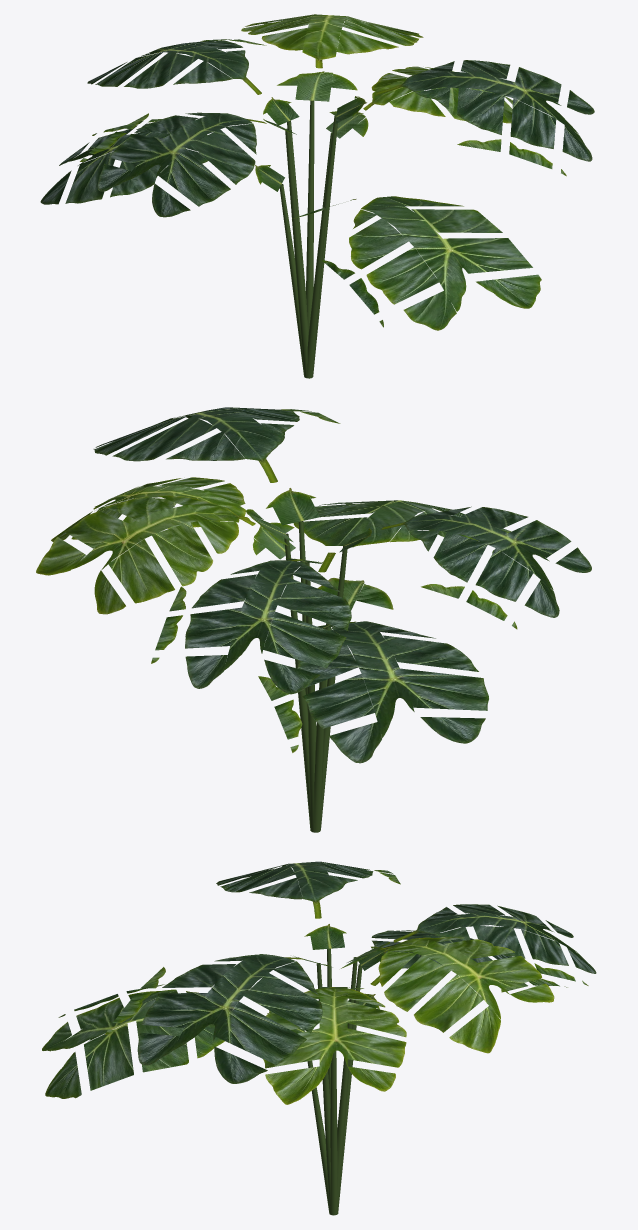
File: split_leaf_01.glb
3 renders of one model, top to bottom at view 1: azimuth 30°, elevation 25°; view 2: azimuth 150°, elevation 25°; view 3: azimuth 270°, elevation 25°, orthographic. The views are drawn at different scales.
Parts seen in each view (by area): view 1: split_leaf_01; view 2: split_leaf_01; view 3: split_leaf_01.
Boxes of the visible parts, <box> form: split_leaf_01: <box>40,14,594,378</box>; split_leaf_01: <box>36,407,591,832</box>; split_leaf_01: <box>42,861,596,1215</box>.
Size of the model in its own units: 2.51 by 1.42 by 2.63.
Materials: 2 (1 with a texture image).
